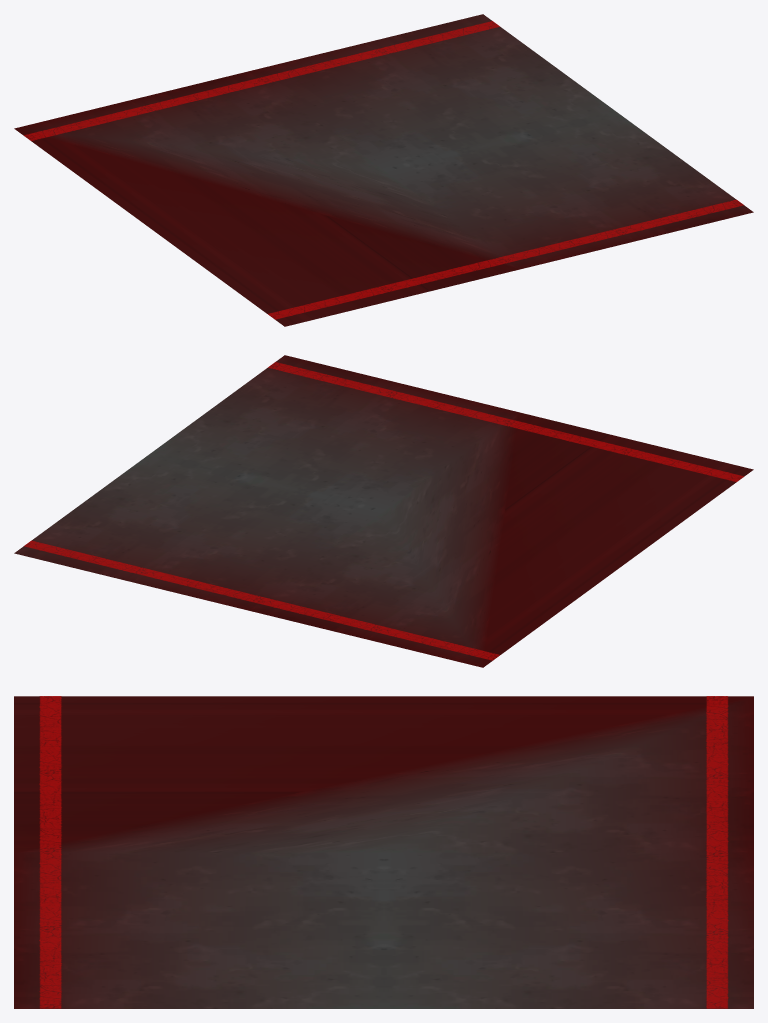
The model's file is Street_2Lane_noSidewalk.glb.
3 views of the same model, one above another, from view 1: azimuth 30°, elevation 25°; view 2: azimuth 150°, elevation 25°; view 3: azimuth 270°, elevation 25° (orthographic). The views are drawn at different scales.
Parts seen in each view (by area): view 1: Street_2Lane_noSidewalk; view 2: Street_2Lane_noSidewalk; view 3: Street_2Lane_noSidewalk.
Part boxes in pixels (left/top/right/bottom): Street_2Lane_noSidewalk: left=14, top=14, right=753, bottom=326; Street_2Lane_noSidewalk: left=14, top=355, right=753, bottom=667; Street_2Lane_noSidewalk: left=14, top=696, right=753, bottom=1008.
Size of the model in its own units: 6 by 0.002 by 6.
Materials: 2 (2 with a texture image).
